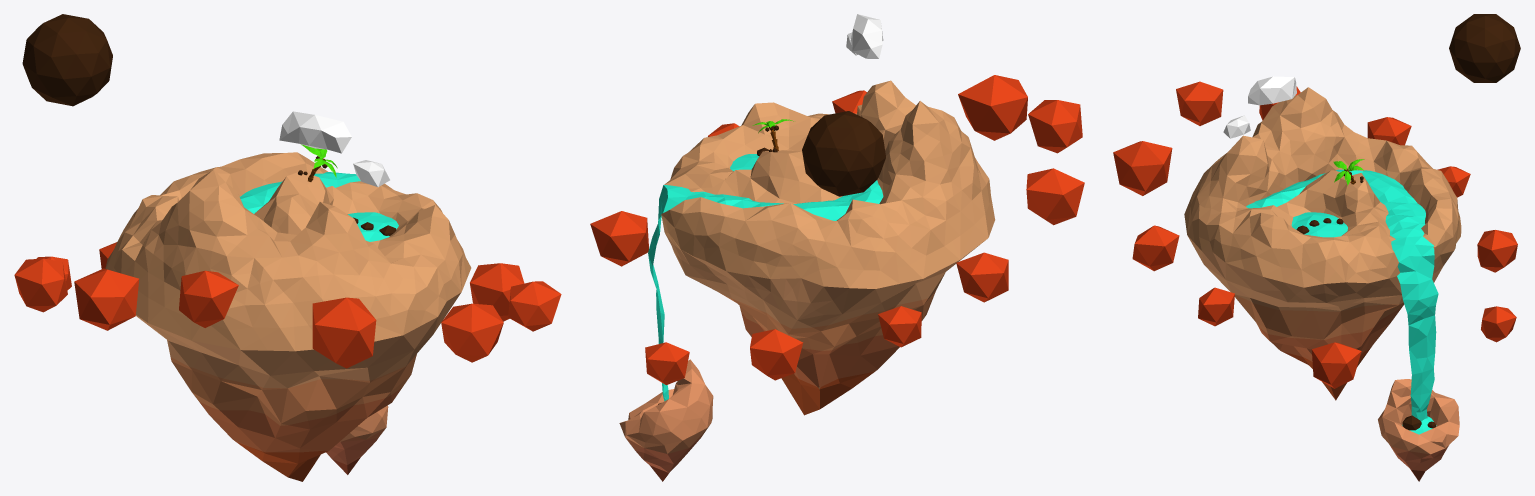
The model's file is Oasis.glb.
3 renders of one model, left to right at view 1: azimuth 30°, elevation 25°; view 2: azimuth 150°, elevation 25°; view 3: azimuth 270°, elevation 25°, orthographic. The views are drawn at different scales.
Visible parts, largest first — view 1: unnamed (×13); view 2: unnamed (×13); view 3: unnamed (×15).
Part boxes in pixels (x1,y1,x2,y2): unnamed (×13): [14, 14, 561, 481]; unnamed (×13): [590, 14, 1084, 481]; unnamed (×15): [1113, 14, 1520, 481].
Size of the model in its own units: 28.76 by 27.64 by 27.16.
